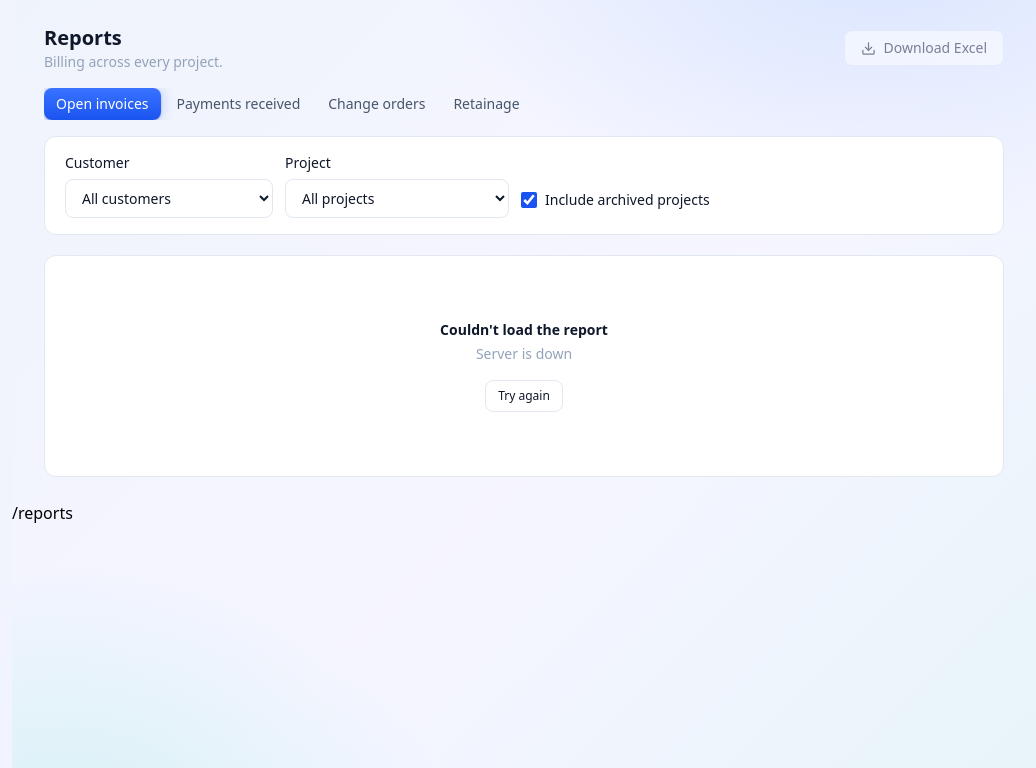
Scenario: ReportsPage › shows a failed report with a way to try again
The image size is (1036, 768).
Expected: the text "Server is down" is shown, [476,344,572,364]
Expected: the button "Download Excel" is disabled, [844,30,1004,66]
Click the button "Try again".
click(524, 396)  # box [485,380,563,412]
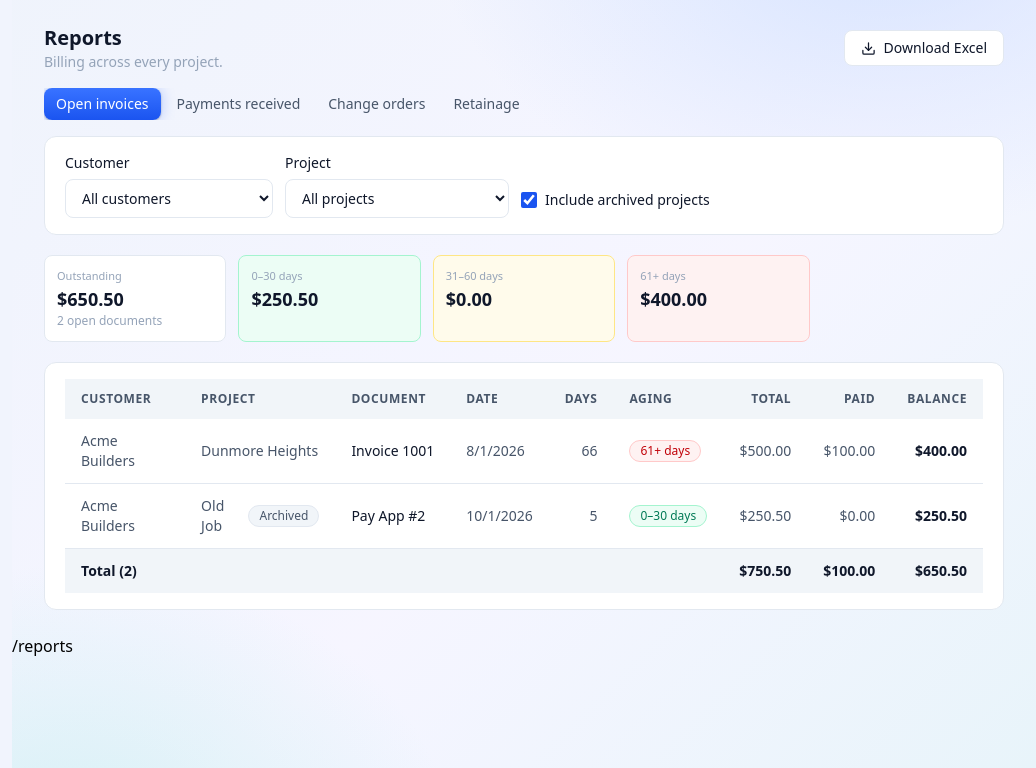
Expected: the table with test id "report-table" is shown, [65,378,983,592]
